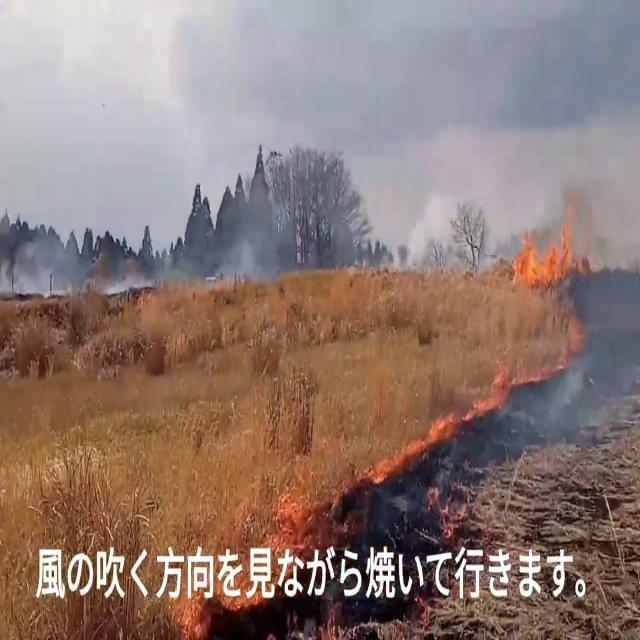Fire: (266, 457, 366, 563), (508, 190, 586, 291), (374, 416, 464, 468), (162, 578, 217, 640)
Smoke: (207, 178, 326, 292), (2, 227, 94, 307)
